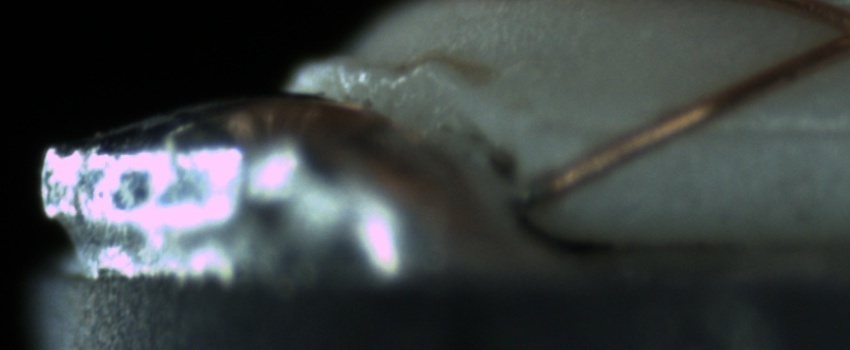CL: (814, 4, 847, 55)
DL: (671, 98, 847, 161)
